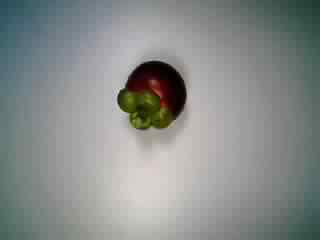mangosteen: (111, 56, 195, 133)
